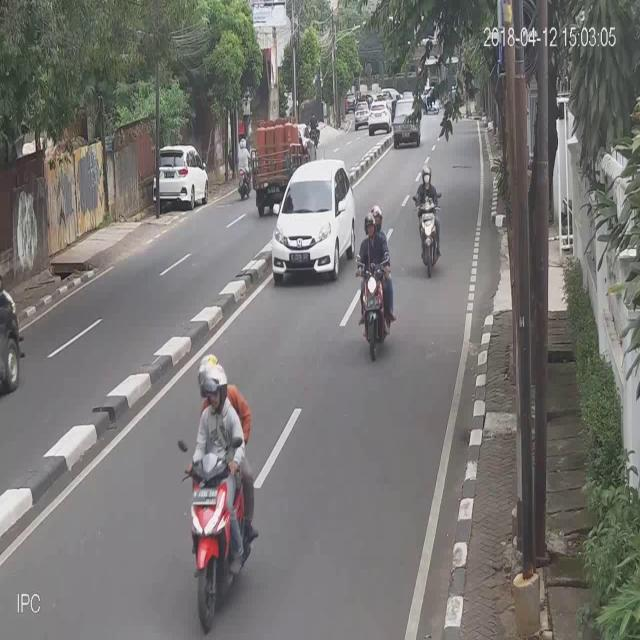bus: (176, 351, 260, 634), (355, 205, 397, 362), (411, 159, 445, 283), (236, 132, 251, 205)
motorcycle: (270, 157, 354, 286), (152, 138, 210, 212), (392, 95, 420, 149), (368, 99, 389, 135), (355, 102, 369, 128)
truck: (253, 119, 293, 211)
